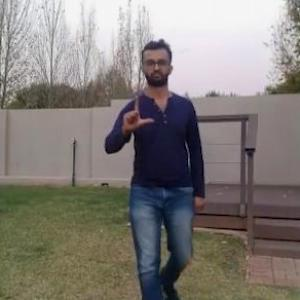land_hand: (118, 88, 156, 137)
